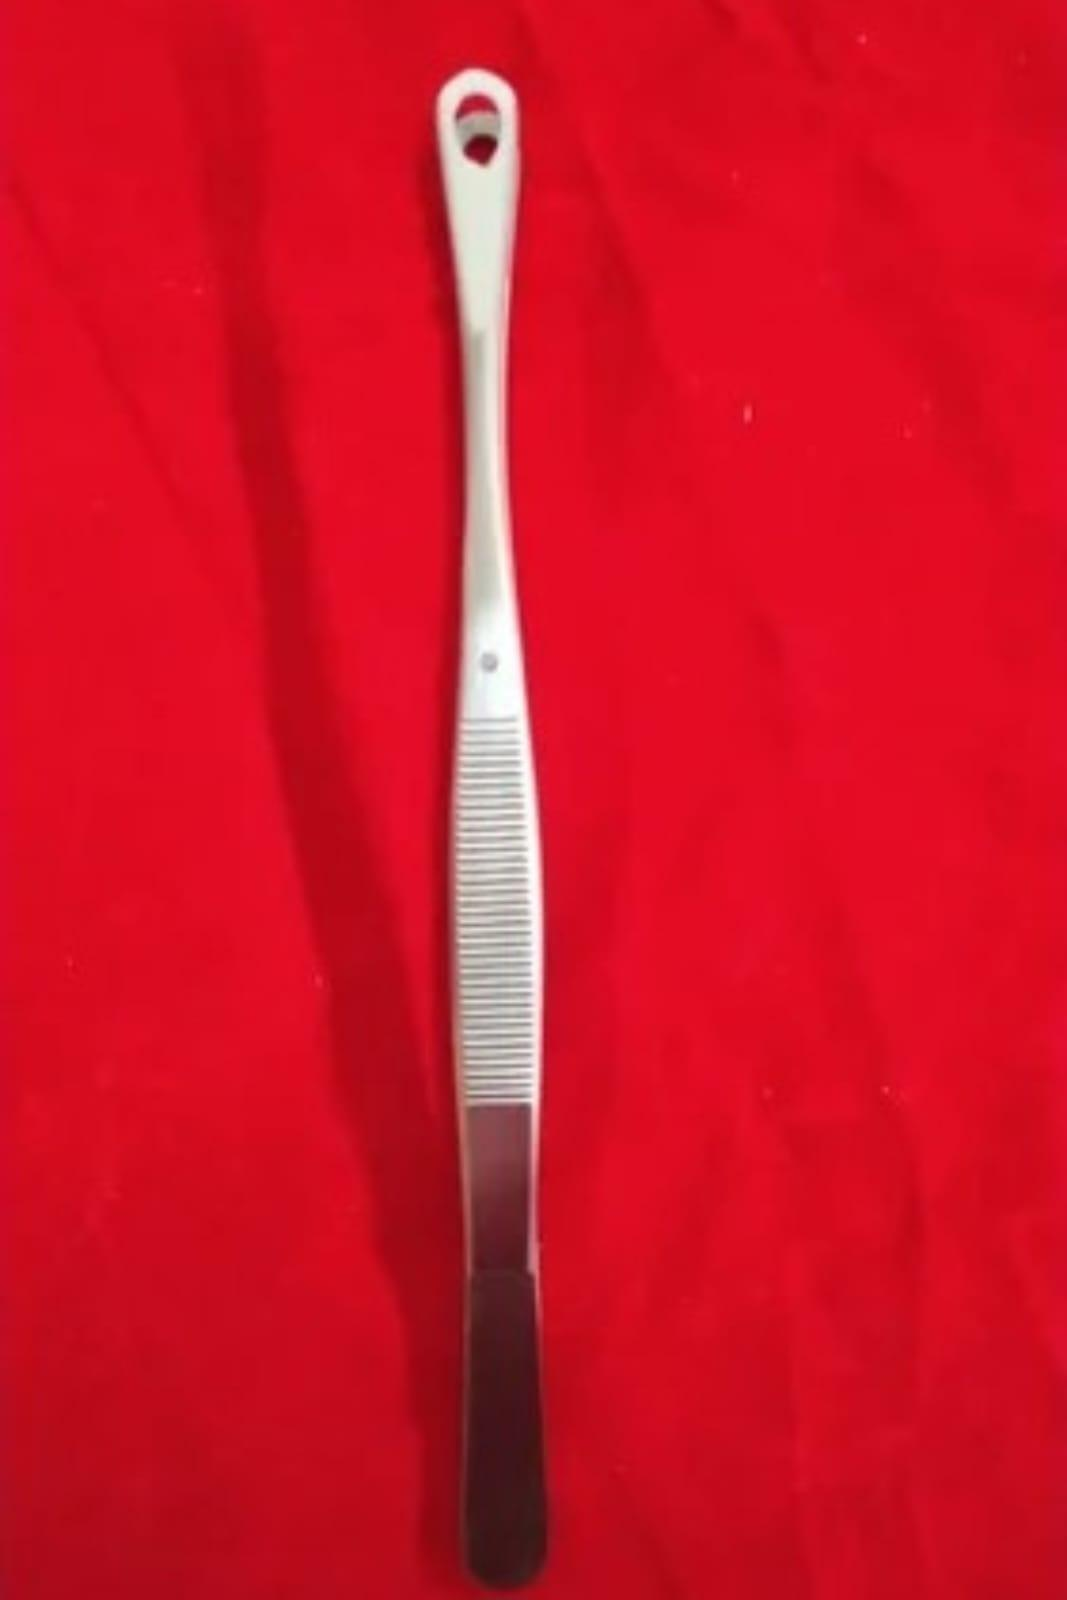Eye Intestinal Forceps: (410, 48, 603, 1600)
